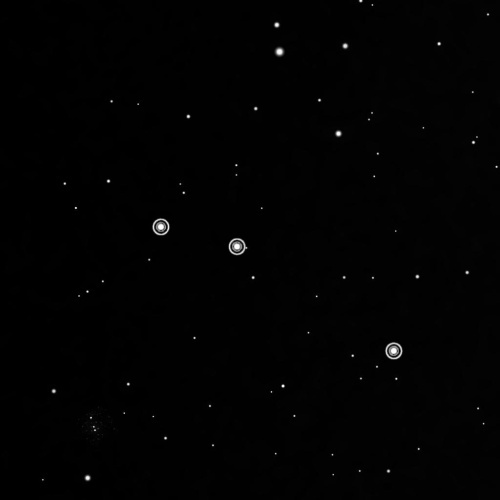vulpecula: (148, 211, 408, 364)
